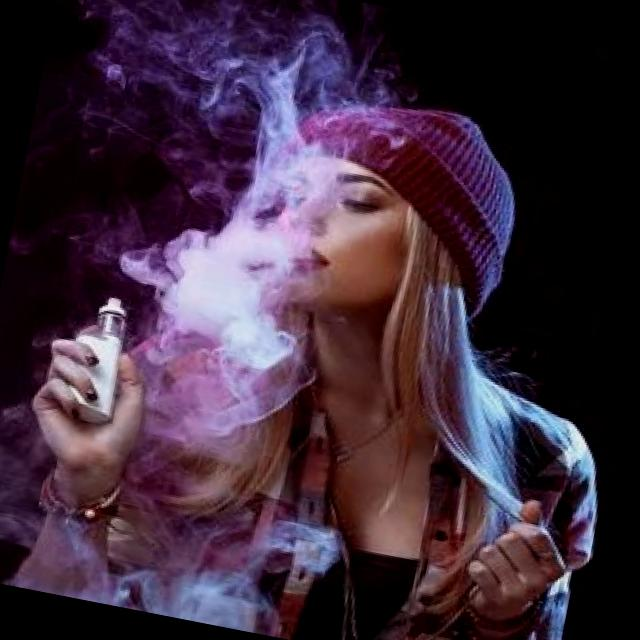cigarette: (65, 288, 142, 431)
